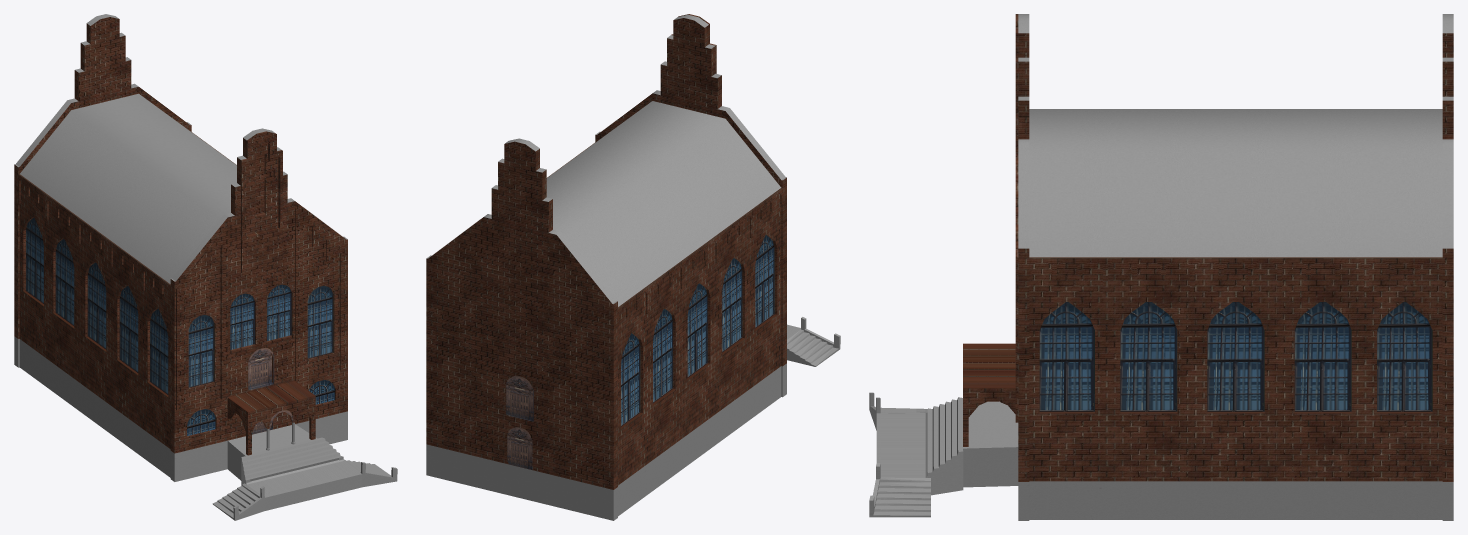
File: kostyol2.fbx
The picture shows the model from 3 angles, left to right: view 1: azimuth 30°, elevation 25°; view 2: azimuth 150°, elevation 25°; view 3: azimuth 270°, elevation 25°; orthographic projection. The views are drawn at different scales.
Parts seen in each view (by area): view 1: Box001; view 2: Box001; view 3: Box001.
Part boxes in pixels (left/top/right/bottom): Box001: left=14, top=14, right=397, bottom=520; Box001: left=426, top=14, right=840, bottom=520; Box001: left=869, top=14, right=1453, bottom=520.
Bounding box in the file's own units: 148 × 319 × 268.
1 material, 1 textured.
